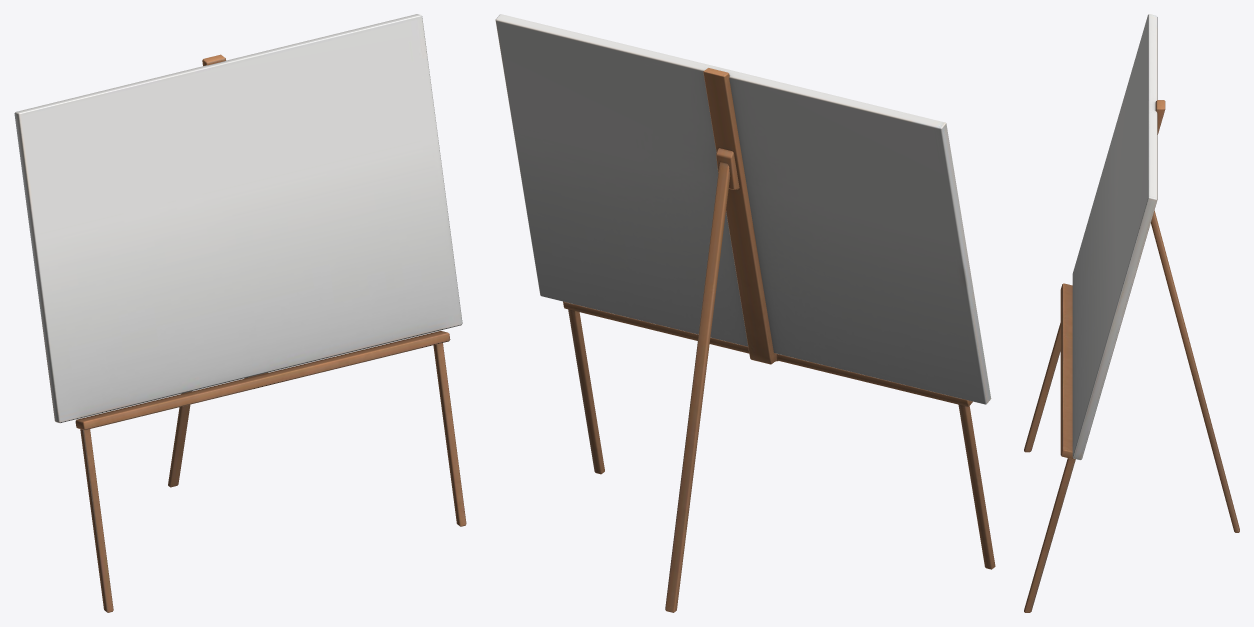
File: SM_WhiteBoard002.glb
3 views of the same model, side by side, from view 1: azimuth 30°, elevation 25°; view 2: azimuth 150°, elevation 25°; view 3: azimuth 270°, elevation 25° (orthographic). The views are drawn at different scales.
Visible parts, largest first — view 1: SM_WhiteBoard002; view 2: SM_WhiteBoard002; view 3: SM_WhiteBoard002.
Boxes of the visible parts, bbox=[...] form: SM_WhiteBoard002: bbox=[14, 14, 466, 612]; SM_WhiteBoard002: bbox=[495, 14, 995, 612]; SM_WhiteBoard002: bbox=[1024, 14, 1239, 612].
Size of the model in its own units: 2 by 2.17 by 0.9912.
Materials: 1 (1 with a texture image).
